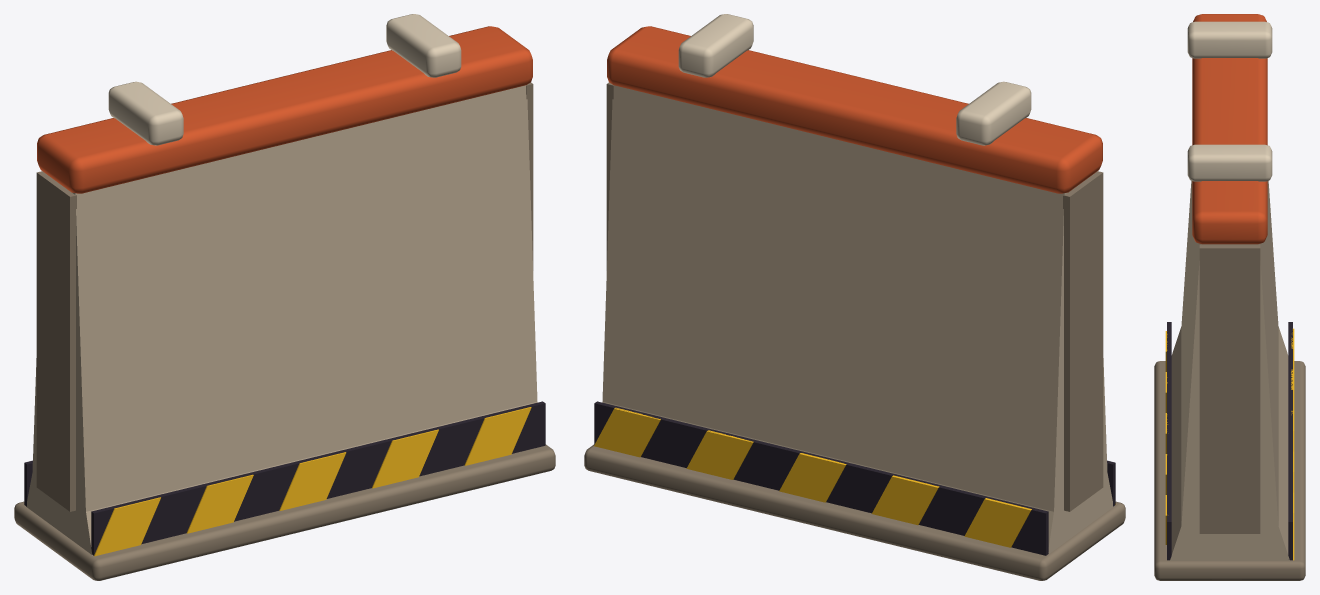
The model's file is dune_blast_wall.glb.
The picture shows the model from 3 angles, left to right: view 1: azimuth 30°, elevation 25°; view 2: azimuth 150°, elevation 25°; view 3: azimuth 270°, elevation 25°; orthographic projection. The views are drawn at different scales.
Visible parts, largest first — view 1: BlastWall; view 2: BlastWall; view 3: BlastWall.
Boxes of the visible parts, x1,y1,x2,y2 form: BlastWall: (14, 14, 555, 580); BlastWall: (584, 14, 1125, 580); BlastWall: (1154, 14, 1305, 580).
Bounding box in the file's own units: 4 × 3.58 × 1.25.
